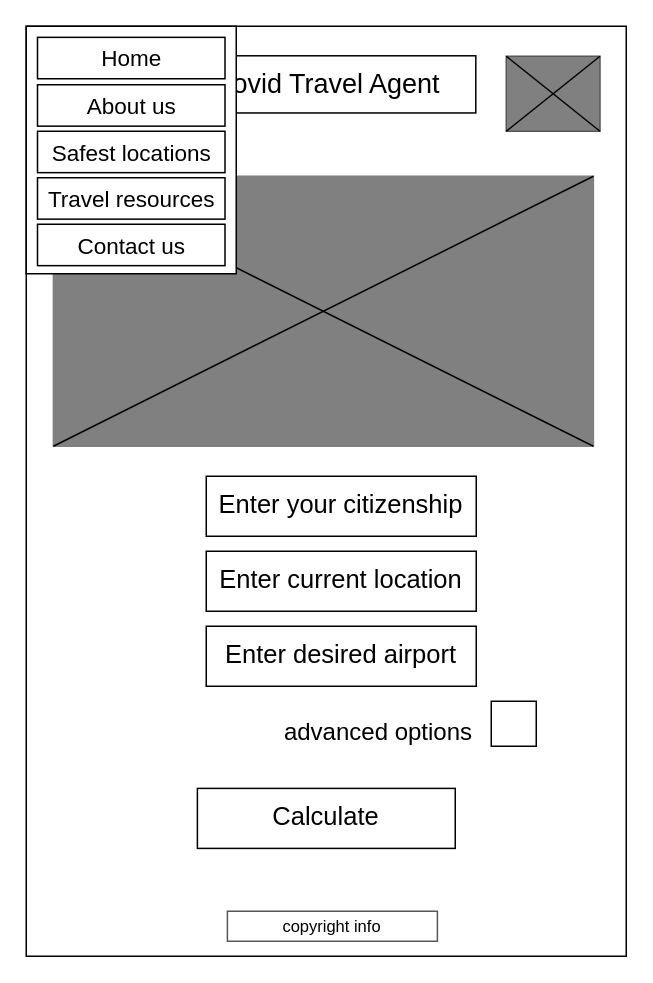
This 653x983 diagram has some shape labels left out. Grey dashed boxes stand in for pictures. Each missing label, with the centre of its shape:
"logo" belongs at point (552, 93).
"world map" belongs at point (322, 310).
